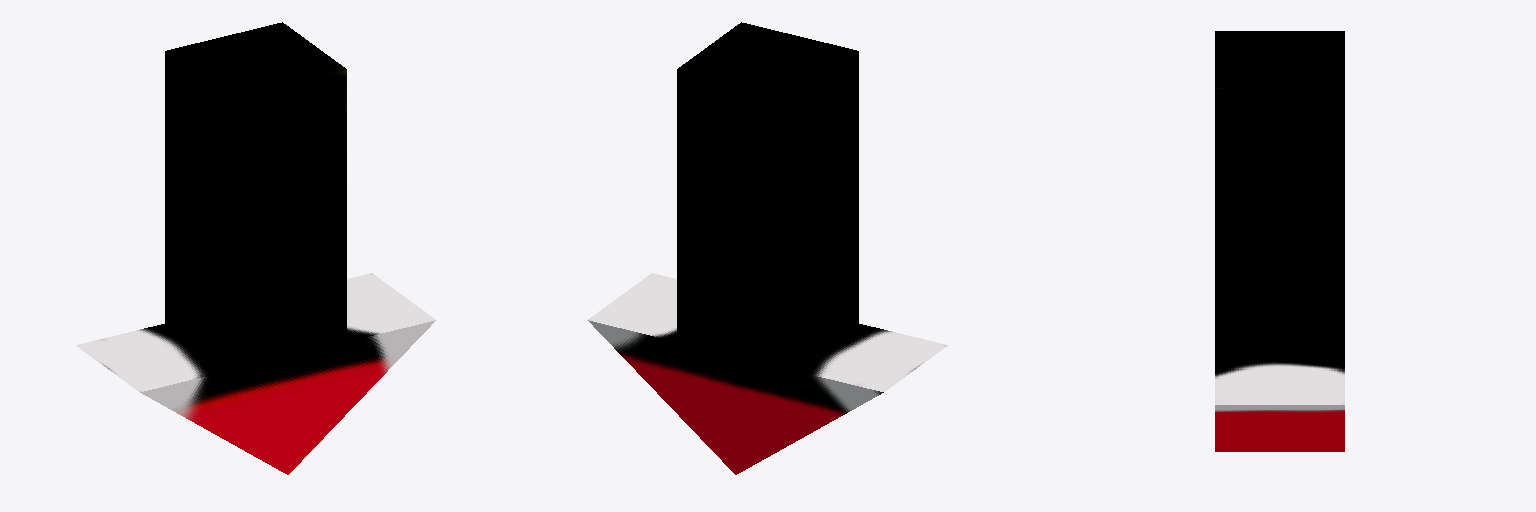
3 views of the same model, side by side, from view 1: azimuth 30°, elevation 25°; view 2: azimuth 150°, elevation 25°; view 3: azimuth 270°, elevation 25° (orthographic).
Parts seen in each view (by area): view 1: Cube; view 2: Cube; view 3: Cube.
Part boxes in pixels (left/top/right/bottom): Cube: left=76, top=22, right=435, bottom=474; Cube: left=588, top=22, right=947, bottom=474; Cube: left=1215, top=31, right=1344, bottom=451.
Bounding box in the file's own units: 2.28 × 2.87 × 0.8582.
1 materials, 1 textured.